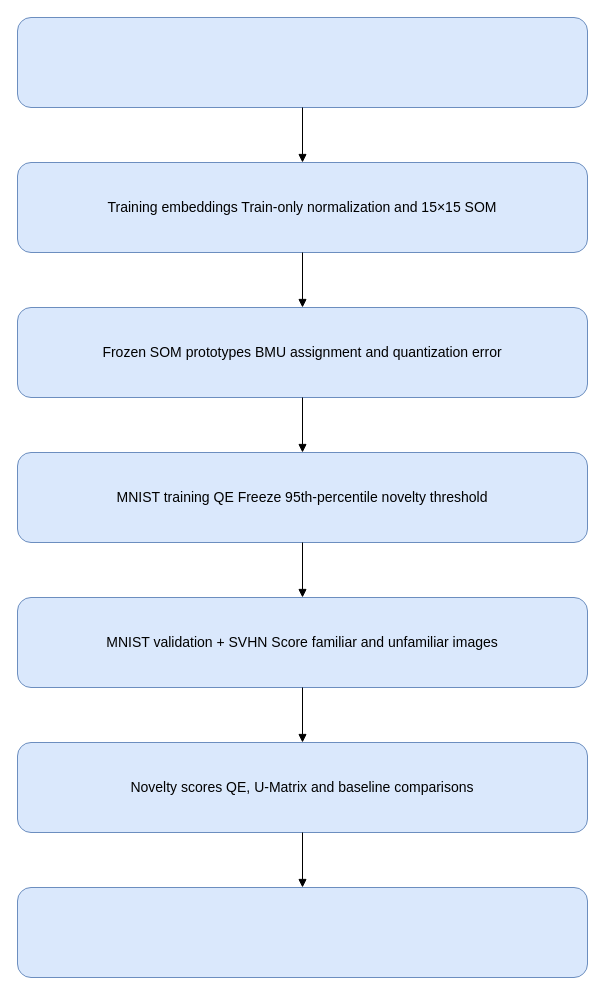
The diagram is 605 pixels wide and 995 high, and some of its shapes have lost their labels. Each missing label, with the centre of its shape:
Evaluation AUROC, AUPR, FPR@95TPR and uncertainty: (302,932)
MNIST training images Frozen CNN / 84-dimensional embeddings: (302,62)
